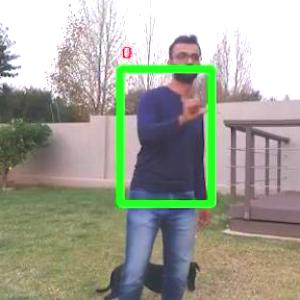land_hand: (178, 82, 212, 122)
